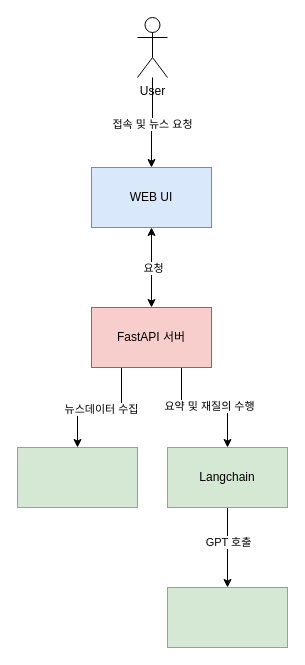
Image size: 305x665. Some labels were removed from this diagram. The shapes that lost their labels are listed below. From the top down, each one's centre as x and y in pixels, then its label:
point 77,477: NewsAPI, RSS 등
point 227,617: OpenAPI
